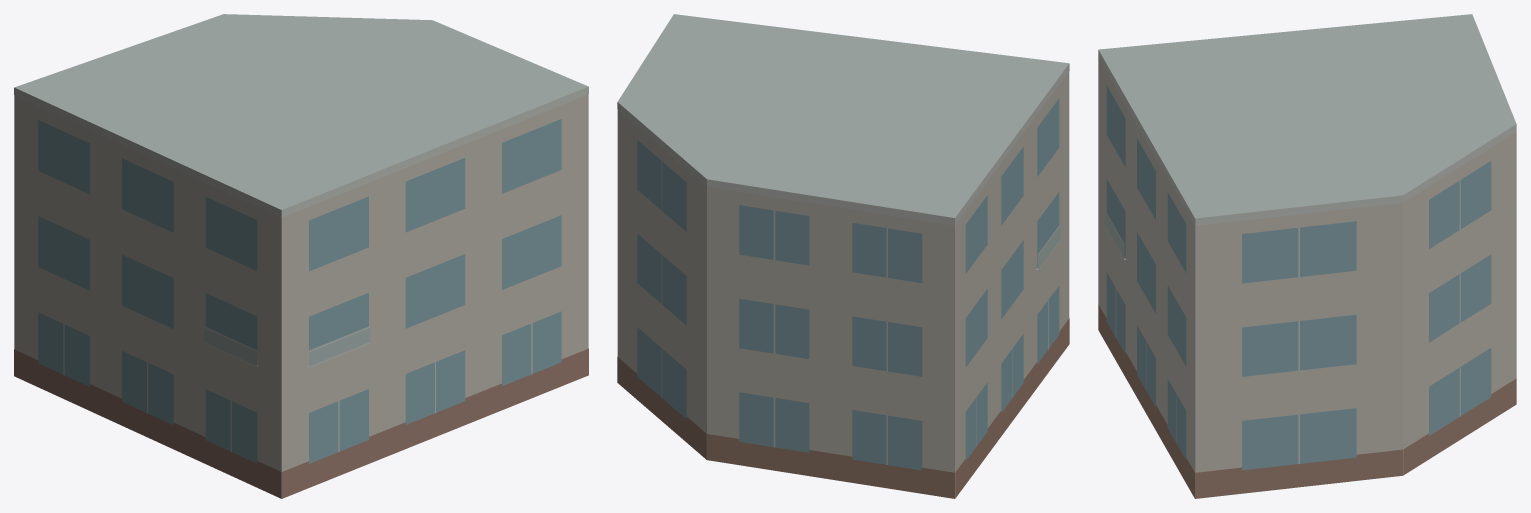
The model's file is survey-upis-32623664.glb.
3 views of the same model, side by side, from view 1: azimuth 30°, elevation 25°; view 2: azimuth 150°, elevation 25°; view 3: azimuth 270°, elevation 25° (orthographic). The views are drawn at different scales.
Parts seen in each view (by area): view 1: survey-upis-32623664.tmp; view 2: survey-upis-32623664.tmp; view 3: survey-upis-32623664.tmp.
Boxes of the visible parts, x1,y1,x2,y2 form: survey-upis-32623664.tmp: [14, 14, 588, 498]; survey-upis-32623664.tmp: [617, 14, 1069, 498]; survey-upis-32623664.tmp: [1098, 14, 1516, 498].
Size of the model in its own units: 14.33 by 9.15 by 12.39.
